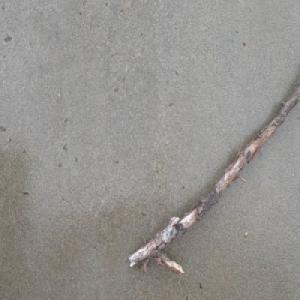Wood: (126, 84, 300, 276)
